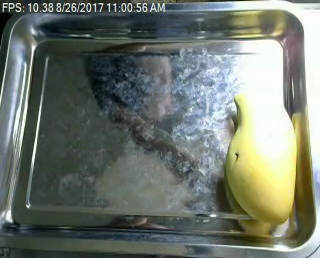Mango: (224, 90, 303, 220)
